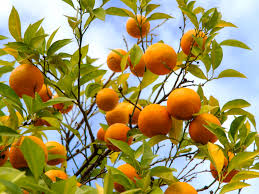orange: (9, 62, 44, 101), (164, 88, 203, 120), (11, 135, 48, 168), (143, 41, 181, 72), (137, 104, 171, 137), (103, 122, 131, 146), (95, 88, 120, 111)
